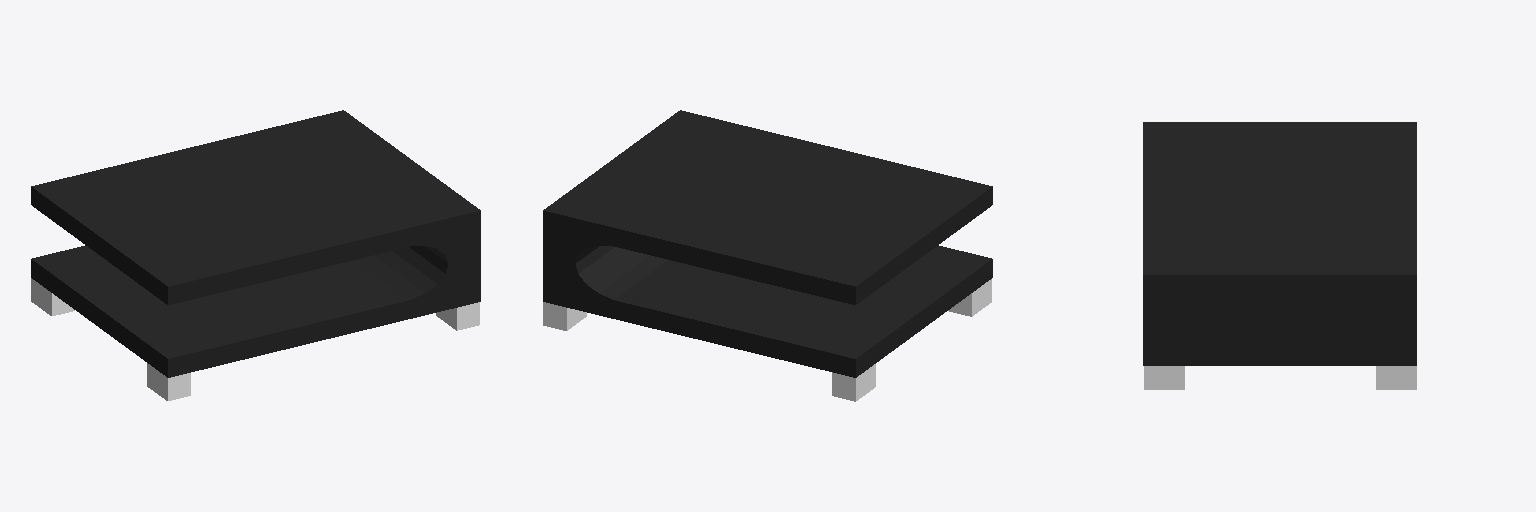
Rendered from coffeeTable.obj.
3 renders of one model, left to right at view 1: azimuth 30°, elevation 25°; view 2: azimuth 150°, elevation 25°; view 3: azimuth 270°, elevation 25°, orthographic.
Parts seen in each view (by area): view 1: Box001, Box003, Box004, Box006; view 2: Box001, Box006, Box005, Box003; view 3: Box001, Box004, Box005.
Boxes of the visible parts, box(x1,y1,x2,y2) form: Box001: box(31, 110, 480, 377); Box003: box(147, 363, 190, 400); Box004: box(436, 302, 479, 330); Box006: box(31, 278, 74, 315); Box001: box(543, 110, 992, 377); Box006: box(832, 364, 875, 401); Box005: box(543, 302, 586, 330); Box003: box(948, 279, 991, 316); Box001: box(1143, 122, 1416, 365); Box004: box(1144, 366, 1184, 389); Box005: box(1376, 366, 1416, 389).
Bounding box in the file's own units: 22.98 × 8.08 × 17.45.